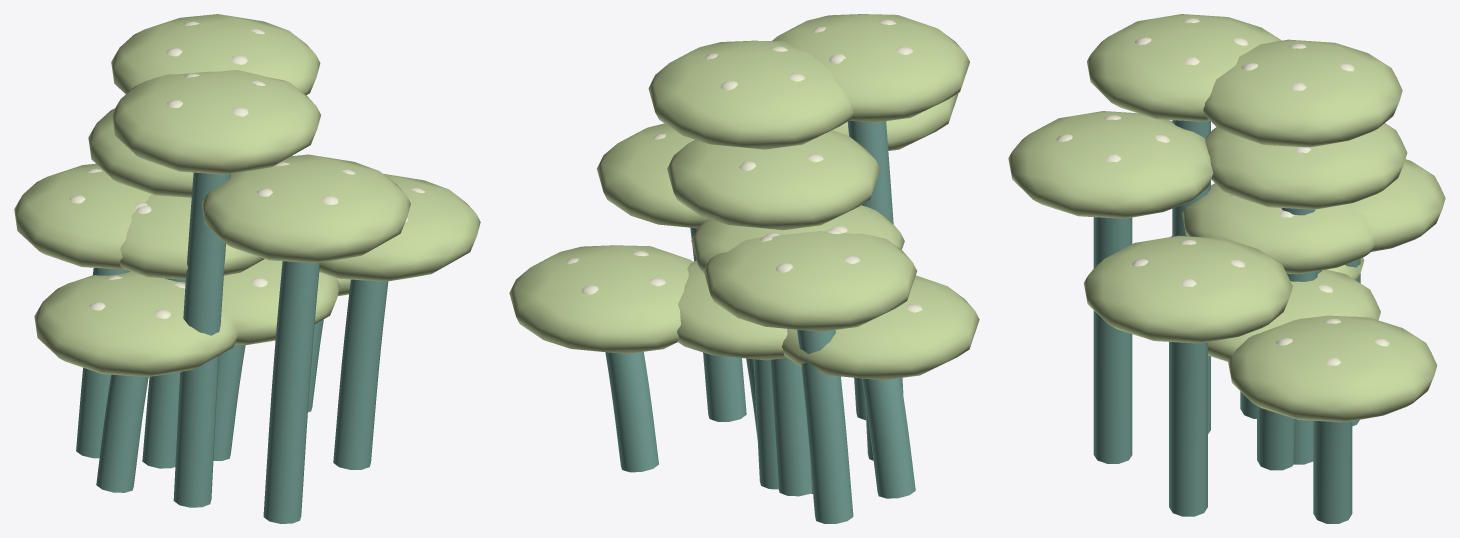
File: bio_spore_fungus_21_far.glb
3 renders of one model, left to right at view 1: azimuth 30°, elevation 25°; view 2: azimuth 150°, elevation 25°; view 3: azimuth 270°, elevation 25°, orthographic. The views are drawn at different scales.
Parts seen in each view (by area): view 1: Thick umbrella cap.007, Thick umbrella cap.002, Thick umbrella cap.004, Thick umbrella cap.003, Curved stipe.007, Curved stipe.002, Thick umbrella cap.001, Thick umbrella cap.005, Curved stipe.005, Thick umbrella cap.009, Thick umbrella cap, Curved stipe.004 (+5 smaller); view 2: Thick umbrella cap.003, Thick umbrella cap.001, Thick umbrella cap.008, Thick umbrella cap.006, Thick umbrella cap.007, Thick umbrella cap.004, Curved stipe.001, Thick umbrella cap.005, Thick umbrella cap, Curved stipe.004, Curved stipe.008, Curved stipe.006 (+5 smaller); view 3: Thick umbrella cap.005, Thick umbrella cap.008, Thick umbrella cap.002, Thick umbrella cap.003, Thick umbrella cap.007, Thick umbrella cap.006, Thick umbrella cap.009, Curved stipe.002, Curved stipe.005, Thick umbrella cap.001, Thick umbrella cap, Curved stipe.008 (+3 smaller).
Part boxes in pixels (x1,y1,x2,y2): Thick umbrella cap.007: (112,70,320,174); Thick umbrella cap.002: (201,154,410,263); Thick umbrella cap.004: (34,271,238,376); Thick umbrella cap.003: (111,14,320,95); Curved stipe.007: (173,172,230,507); Curved stipe.002: (263,261,319,523); Thick umbrella cap.001: (14,163,150,269); Thick umbrella cap.005: (319,173,480,281); Curved stipe.005: (333,279,388,469); Thick umbrella cap.009: (119,194,264,279); Thick umbrella cap: (221,259,340,345); Curved stipe.004: (96,374,148,492); Thick umbrella cap.003: (648,40,853,149); Thick umbrella cap.001: (703,231,916,331); Thick umbrella cap.008: (509,245,692,353); Thick umbrella cap.006: (667,130,880,230); Thick umbrella cap.007: (772,14,969,122); Thick umbrella cap.004: (782,275,979,380); Curved stipe.001: (797,329,853,523); Thick umbrella cap.005: (597,123,707,228); Thick umbrella cap: (677,260,787,360); Curved stipe.004: (862,378,915,498); Curved stipe.008: (605,352,658,472); Curved stipe.006: (770,357,812,496); Thick umbrella cap.005: (1083,235,1292,343); Thick umbrella cap.008: (1228,315,1437,422); Thick umbrella cap.002: (1008,111,1213,218); Thick umbrella cap.003: (1203,39,1402,147); Thick umbrella cap.007: (1087,14,1281,121); Thick umbrella cap.006: (1205,123,1407,209); Thick umbrella cap.009: (1182,183,1375,274); Curved stipe.002: (1093,217,1132,463); Curved stipe.005: (1169,342,1207,516); Thick umbrella cap.001: (1343,159,1445,251); Thick umbrella cap: (1208,269,1380,361); Curved stipe.008: (1313,420,1352,523).
Bounding box in the file's own units: 2.01 × 1.97 × 1.92.
